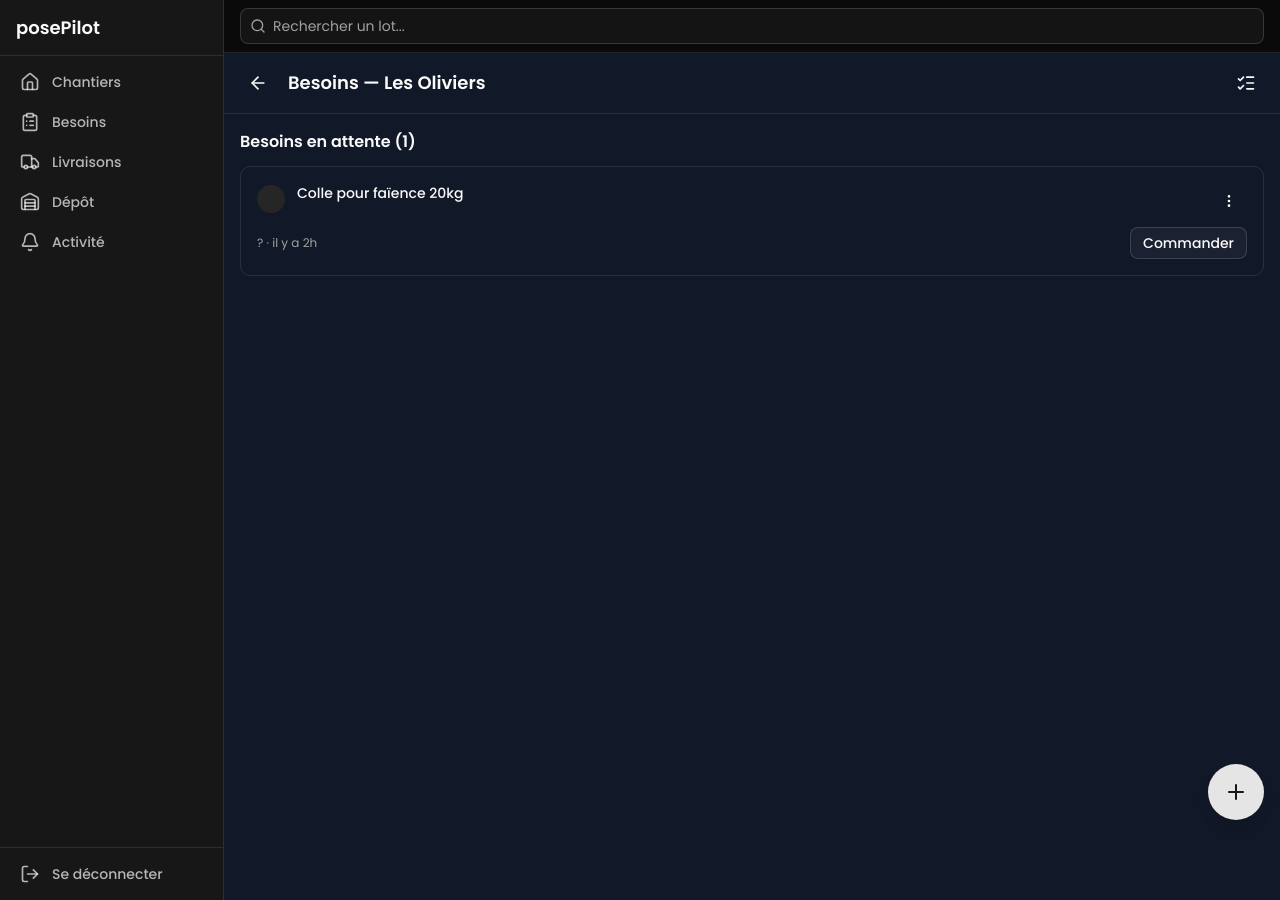
it: BesoinsPage — Edit and Delete › shows validation error when submitting empty description
Expected: the text "Colle pour faïence 20kg" is shown, [297,183,464,203]
Click the button named "Actions".
click(1229, 201)  # box [1211,183,1247,219]
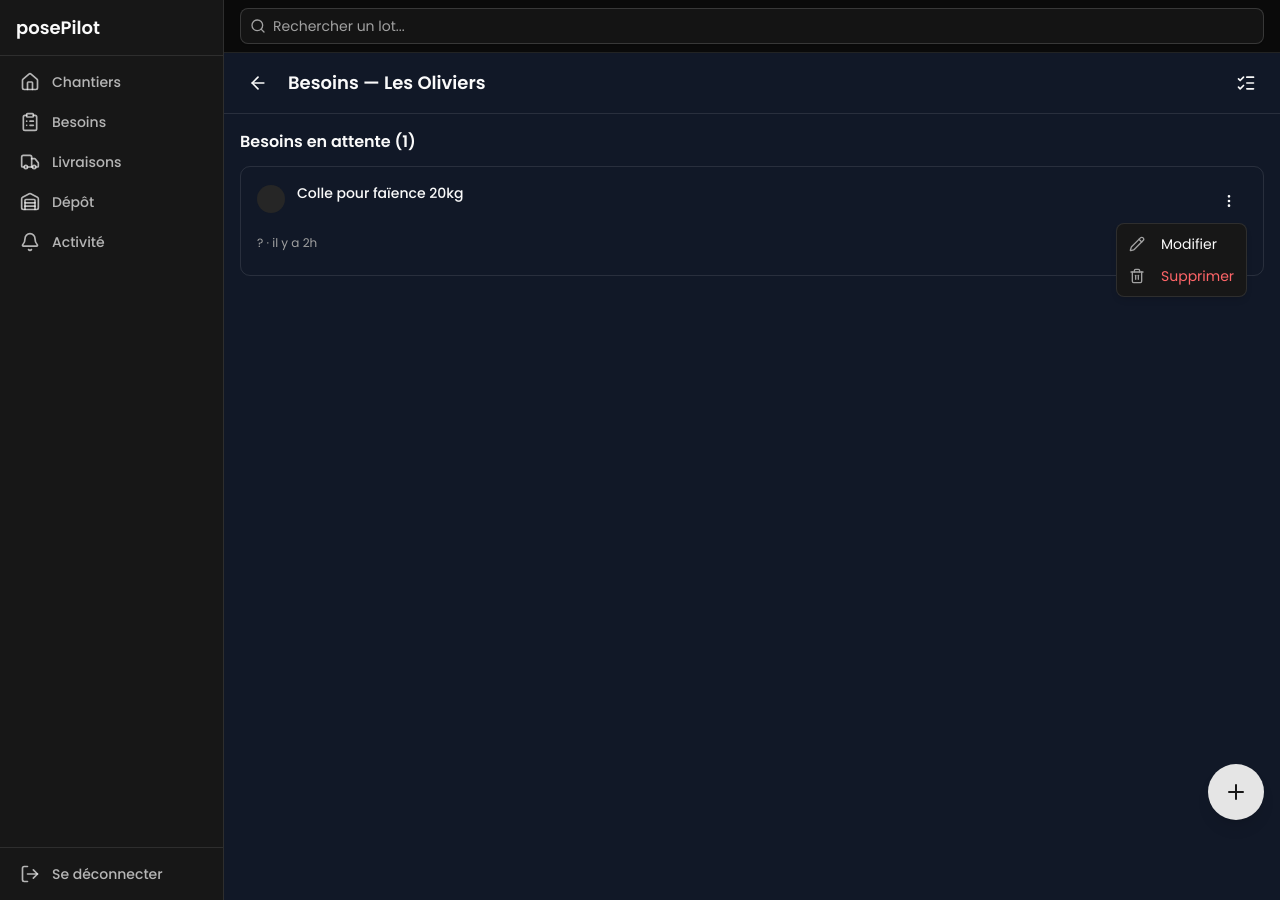
Click the menu item "Modifier".
click(1173, 244)  # box [1129,234,1217,254]
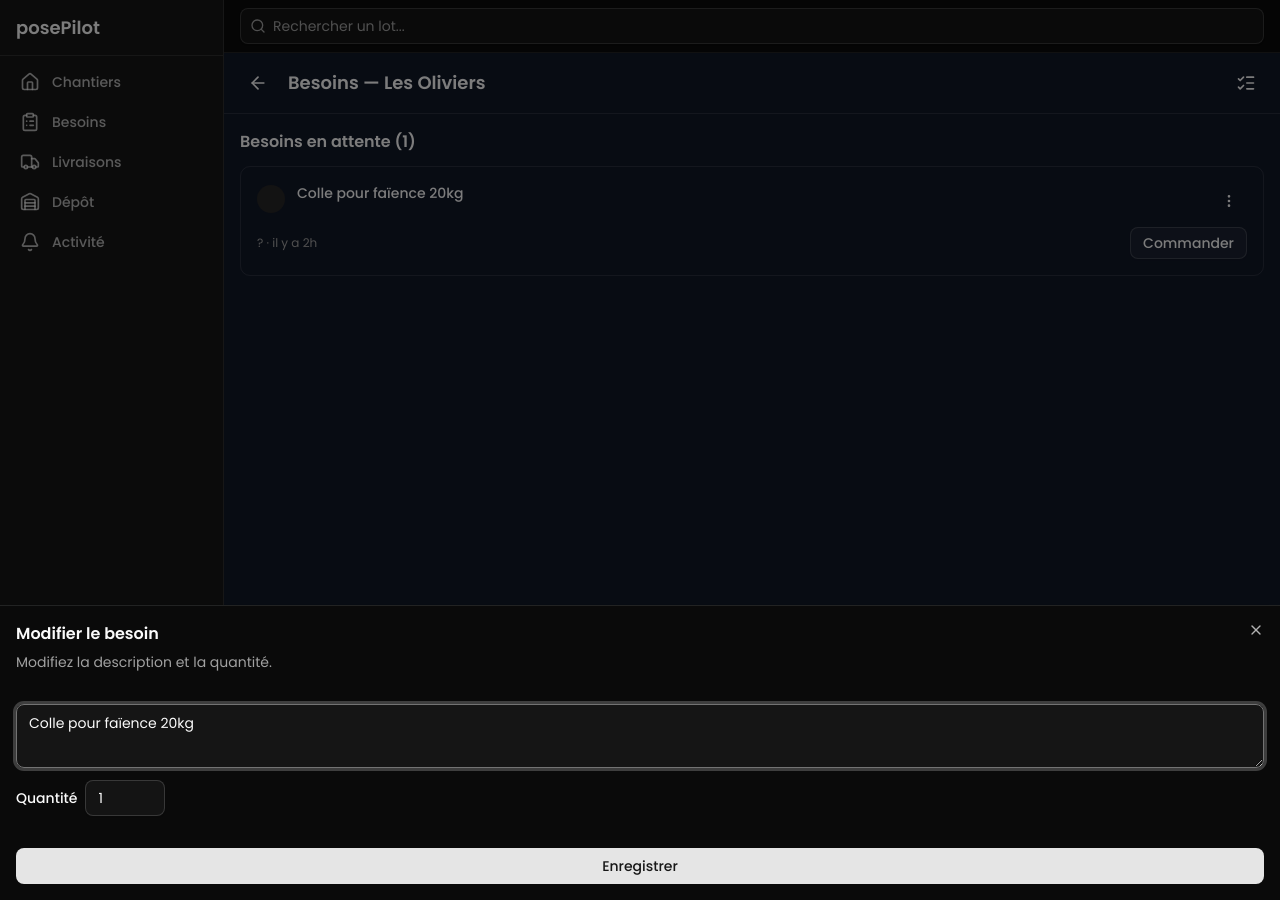
Now the heading "Modifier le besoin" is shown, box [16,622,159,645]
Clear the text box named "Description du besoin (édition)" at (640, 736), box [16,704,1264,768]
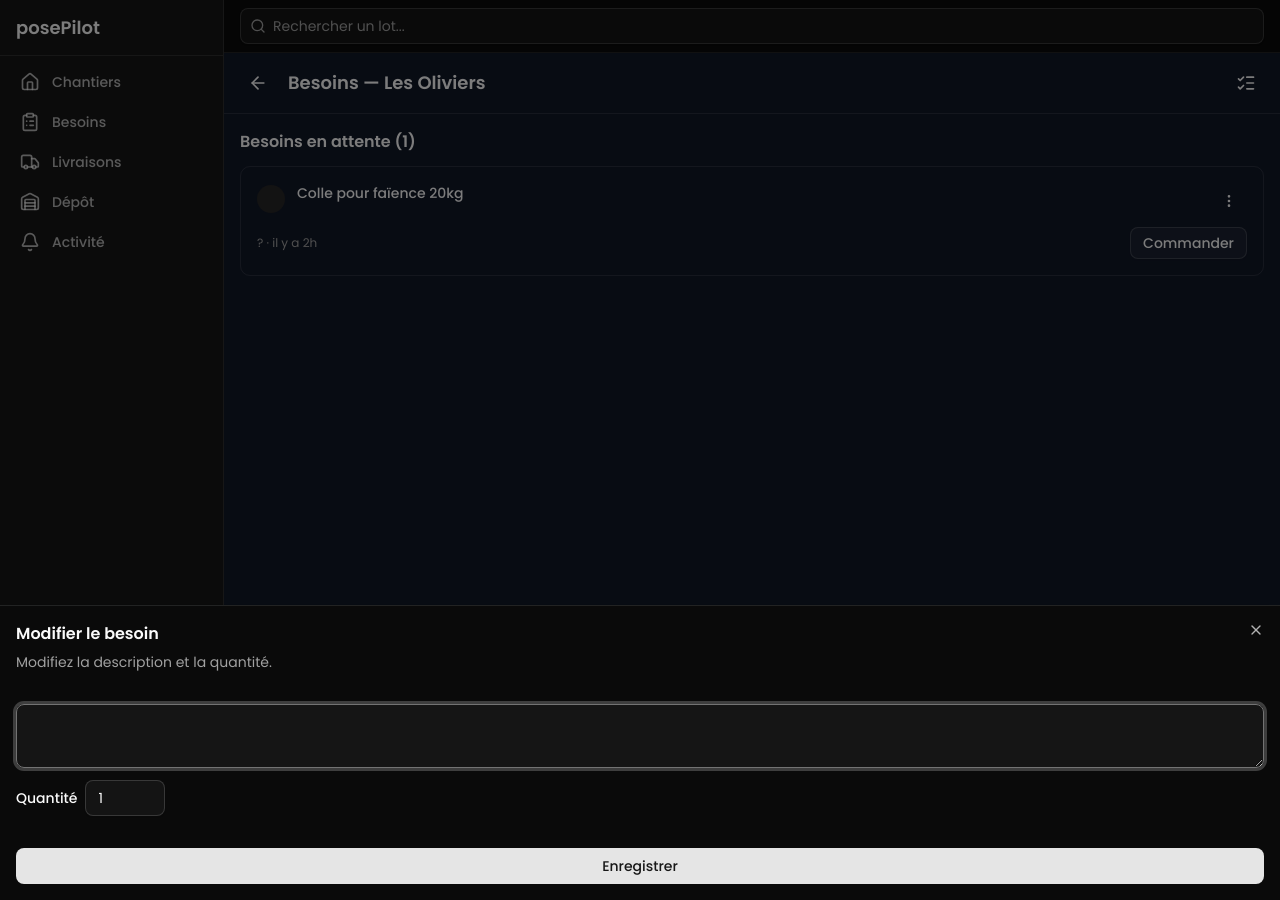
Click the button "Enregistrer".
click(640, 866)  # box [16,848,1264,884]
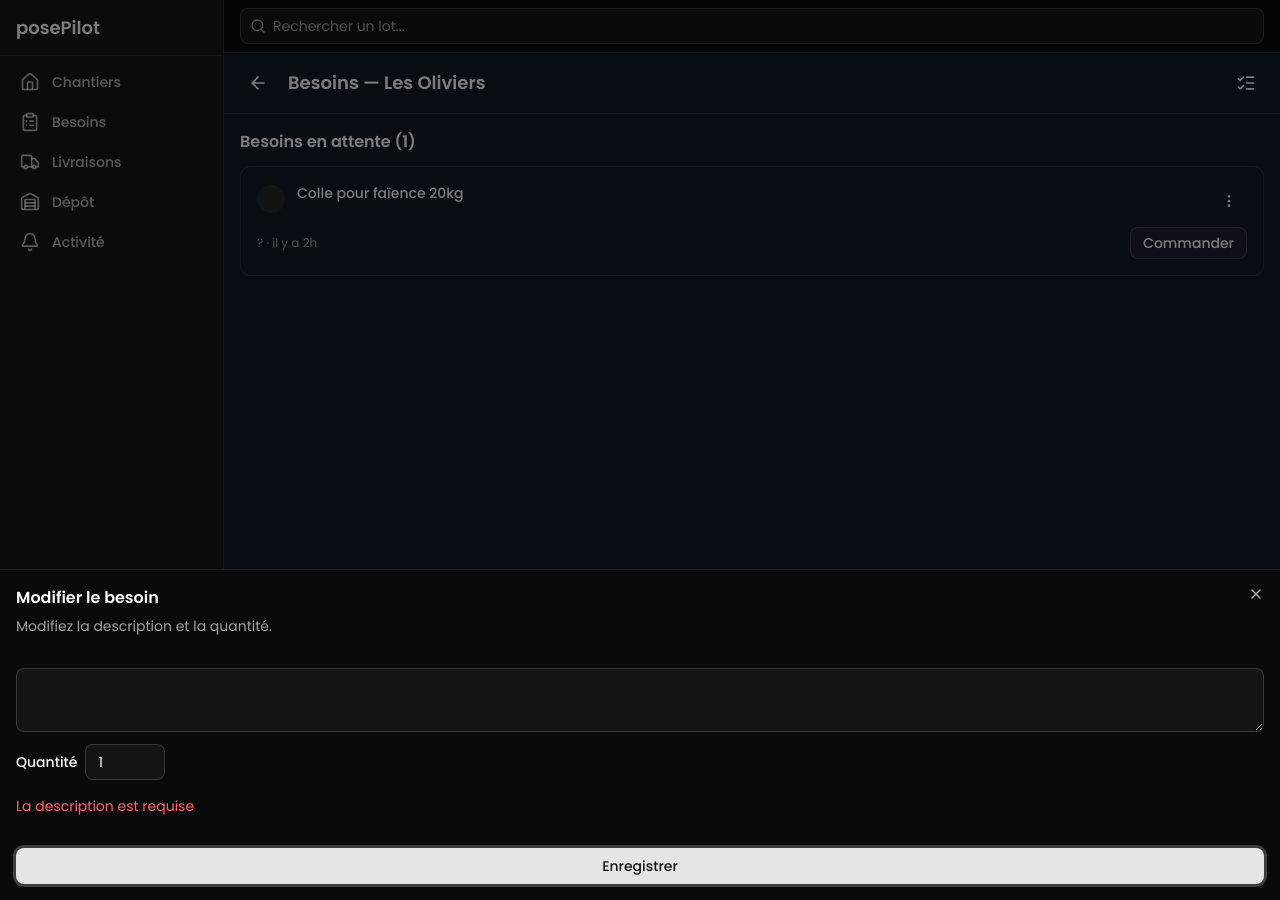
Now the text "La description est requise" is shown, box [16,796,194,816]
